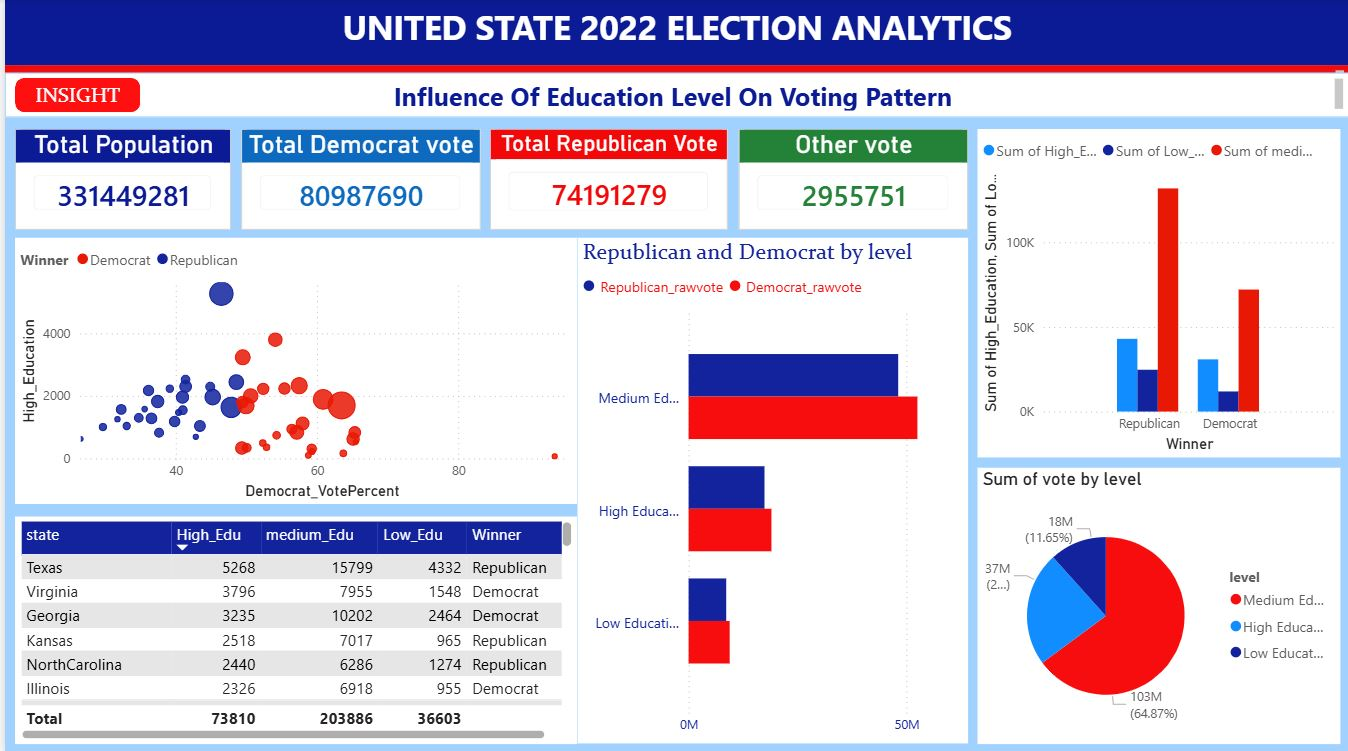

The page's visual inventory and layout, read from the dashboard file:
{"tool":"powerbi","page":{"name":"Education","canvas":[1280,720],"ordinal":1},"visuals":[{"type":"textbox","box":[0,0,1280.3,63.1],"z":0},{"type":"textbox","box":[0,63.1,1280.3,12.3],"z":1000},{"type":"textbox","box":[0,70,1280.3,42.5],"z":2000},{"type":"cardVisual","title":"Total Democrat vote","fields":{"Data":["Sum(vote summery.Total Democrat Vote)"]},"box":[225,123.5,227.8,96.1],"z":3000},{"type":"cardVisual","title":"Total Republican Vote","fields":{"Data":["Sum(vote summery.Total Republican vote)"]},"box":[462.4,123.5,226.4,96.1],"z":4000},{"type":"cardVisual","title":"Other vote","fields":{"Data":["Sum(vote summery.Total of other vote)"]},"box":[698.5,123.5,218.2,96.1],"z":5000},{"type":"cardVisual","title":"Total Population","fields":{"Data":["Sum(vote summery.Total Population)"]},"box":[9.6,123.5,205.8,96.1],"z":6000},{"type":"clusteredBarChart","title":" Republican and Democrat by level","fields":{"Category":["second education.level"],"Y":["Sum(second education.Republican_rawvote)","Sum(second education.Democrat_rawvote)"]},"box":[544.8,227.8,371.9,481.6],"z":7000},{"type":"pieChart","fields":{"Y":["Sum(second education.vote)"],"Category":["second education.level"]},"box":[926.2,446,345.8,263.5],"z":8000},{"type":"tableEx","fields":{"Values":["Education.state","Sum(Education.High_Education)","Sum(Education.medium_Education)","Sum(Education.Low_Education)","Education.Winner"]},"box":[9.6,492.6,535.2,216.8],"z":9000},{"type":"clusteredColumnChart","fields":{"Category":["Education.Winner"],"Y":["Sum(Education.High_Education)","Sum(Education.Low_Education)","Sum(Education.medium_Education)"]},"box":[926.2,123.5,345.8,312.9],"z":10000},{"type":"scatterChart","fields":{"X":["Education.Democrat_VotePercent"],"Y":["Education.High_Education"],"Series":["Education.Winner"],"Size":["Sum(Education.Total_Population)"]},"box":[9.6,227.8,535.2,253.9],"z":11000},{"type":"shape","box":[9.6,75.5,119.4,32.9],"z":12000}]}

Visuals, with their boxes in screenshot pixels (x1, y1, x2, y2), scaled from the page's 1280x720 canvas onto the 1348x751 screenshot:
textbox: detection(0, 0, 1347, 66)
textbox: detection(0, 66, 1347, 79)
textbox: detection(0, 73, 1347, 117)
"Total Democrat vote" cardVisual: detection(237, 129, 477, 229)
"Total Republican Vote" cardVisual: detection(487, 129, 725, 229)
"Other vote" cardVisual: detection(736, 129, 965, 229)
"Total Population" cardVisual: detection(10, 129, 227, 229)
" Republican and Democrat by level" clusteredBarChart: detection(574, 238, 965, 740)
pieChart - Sum(second education.vote) x second education.level: detection(975, 465, 1340, 740)
tableEx - Education.state x Sum(Education.High_Education): detection(10, 514, 574, 740)
clusteredColumnChart - Education.Winner x Sum(Education.High_Education): detection(975, 129, 1340, 455)
scatterChart - Education.Democrat_VotePercent x Education.High_Education: detection(10, 238, 574, 502)
shape: detection(10, 79, 136, 113)
